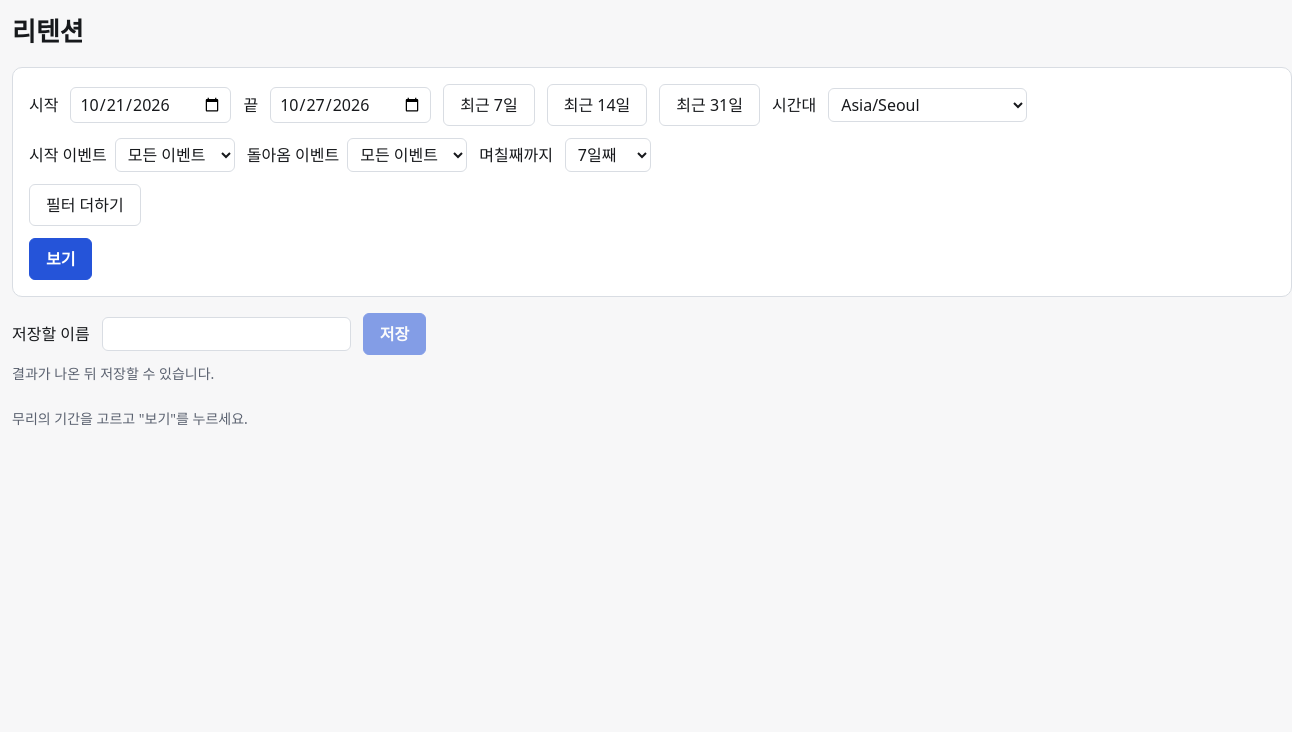
Scenario: RetentionPage › 기본 설정(한국 시각 최근 7일, 7일째까지, 모든 이벤트)을 보내고 무리 × N일째 표를 그린다
Click the button "보기".
click(61, 259)  # box [29,238,92,280]
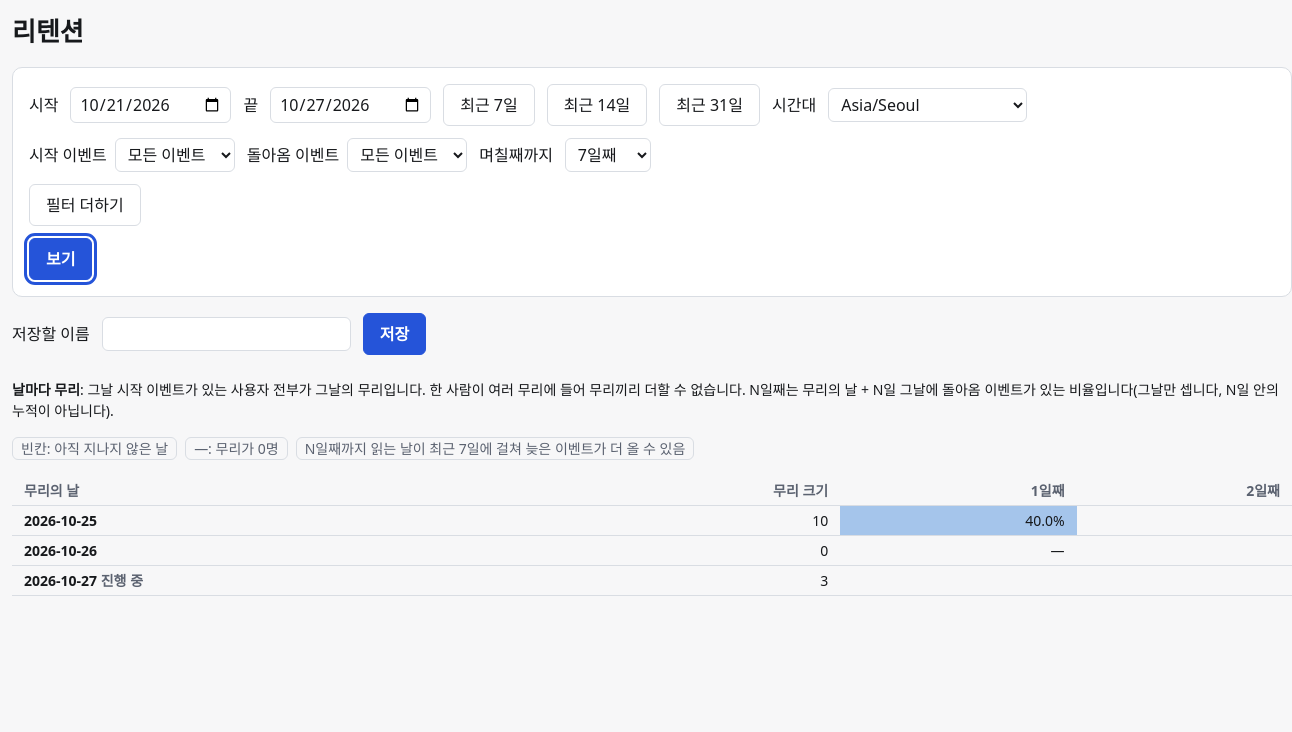
Check: the rows read "무리의 날무리 크기1일째2일째", "2026-10-251040.0% (4명)", "2026-10-260—", "2026-10-27 진행 중3", in this order, box [12,476,1291,506]; [12,506,1291,536]; [12,536,1291,566]; [12,566,1291,596]
Check: the text "그날만 셉니다" is shown, box [12,380,1279,420]
